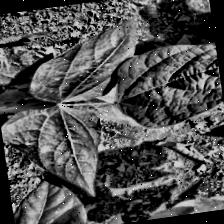ALS: (2, 96, 108, 212), (115, 36, 224, 134)
